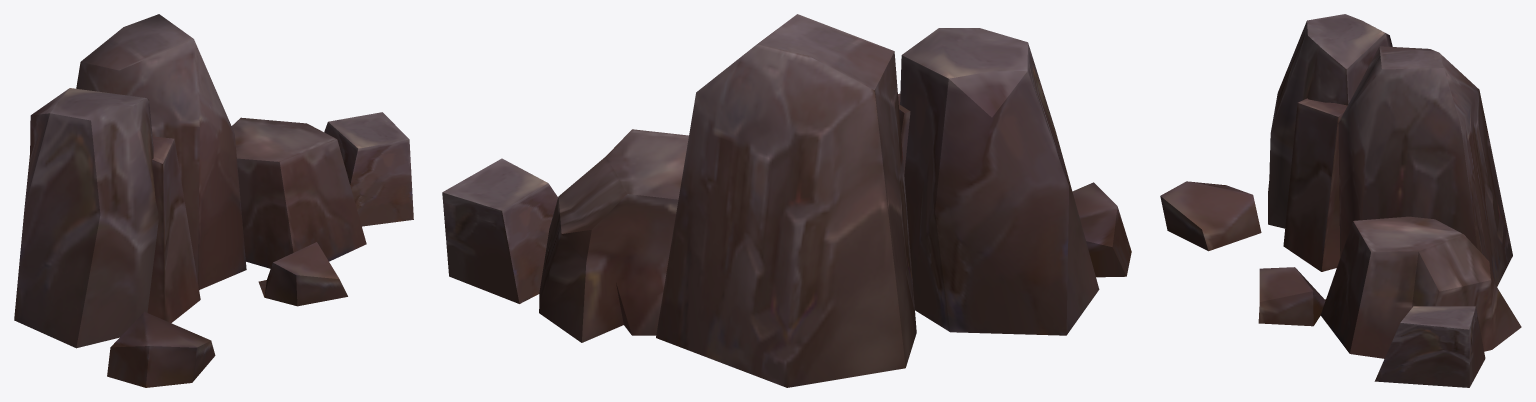
Rendered from FB6_shitou01.FBX.
3 renders of one model, left to right at view 1: azimuth 30°, elevation 25°; view 2: azimuth 150°, elevation 25°; view 3: azimuth 270°, elevation 25°, orthographic. The views are drawn at different scales.
Parts seen in each view (by area): view 1: FB6_shitou01_002, FB6_shitou01_001, FB6_shitou01_003, FB6_shitou01_005, FB6_shitou01_004, FB6_shitou01_006, FB6_shitou01_007; view 2: FB6_shitou01_001, FB6_shitou01_002, FB6_shitou01_003, FB6_shitou01_005, FB6_shitou01_006; view 3: FB6_shitou01_001, FB6_shitou01_003, FB6_shitou01_002, FB6_shitou01_004, FB6_shitou01_005, FB6_shitou01_006, FB6_shitou01_007.
Boxes of the visible parts, x1=… form: FB6_shitou01_002: x1=14, y1=88, x2=158, y2=348; FB6_shitou01_001: x1=76, y1=14, x2=246, y2=289; FB6_shitou01_003: x1=231, y1=117, x2=366, y2=268; FB6_shitou01_005: x1=324, y1=112, x2=413, y2=226; FB6_shitou01_004: x1=147, y1=136, x2=200, y2=322; FB6_shitou01_006: x1=107, y1=311, x2=215, y2=387; FB6_shitou01_007: x1=258, y1=242, x2=347, y2=306; FB6_shitou01_001: x1=656, y1=14, x2=916, y2=387; FB6_shitou01_002: x1=900, y1=28, x2=1099, y2=335; FB6_shitou01_003: x1=539, y1=129, x2=688, y2=342; FB6_shitou01_005: x1=442, y1=158, x2=557, y2=303; FB6_shitou01_006: x1=1072, y1=182, x2=1131, y2=277; FB6_shitou01_001: x1=1338, y1=46, x2=1512, y2=286; FB6_shitou01_003: x1=1320, y1=216, x2=1521, y2=358; FB6_shitou01_002: x1=1268, y1=14, x2=1392, y2=228; FB6_shitou01_004: x1=1283, y1=98, x2=1347, y2=271; FB6_shitou01_005: x1=1374, y1=306, x2=1485, y2=387; FB6_shitou01_006: x1=1160, y1=181, x2=1261, y2=251; FB6_shitou01_007: x1=1258, y1=267, x2=1325, y2=326.
Size of the model in its own units: 776 by 397 by 604.
1 material, 1 textured.
